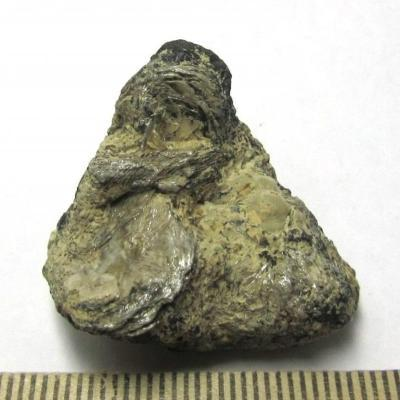natural_science_collection: (42, 39, 360, 355)
